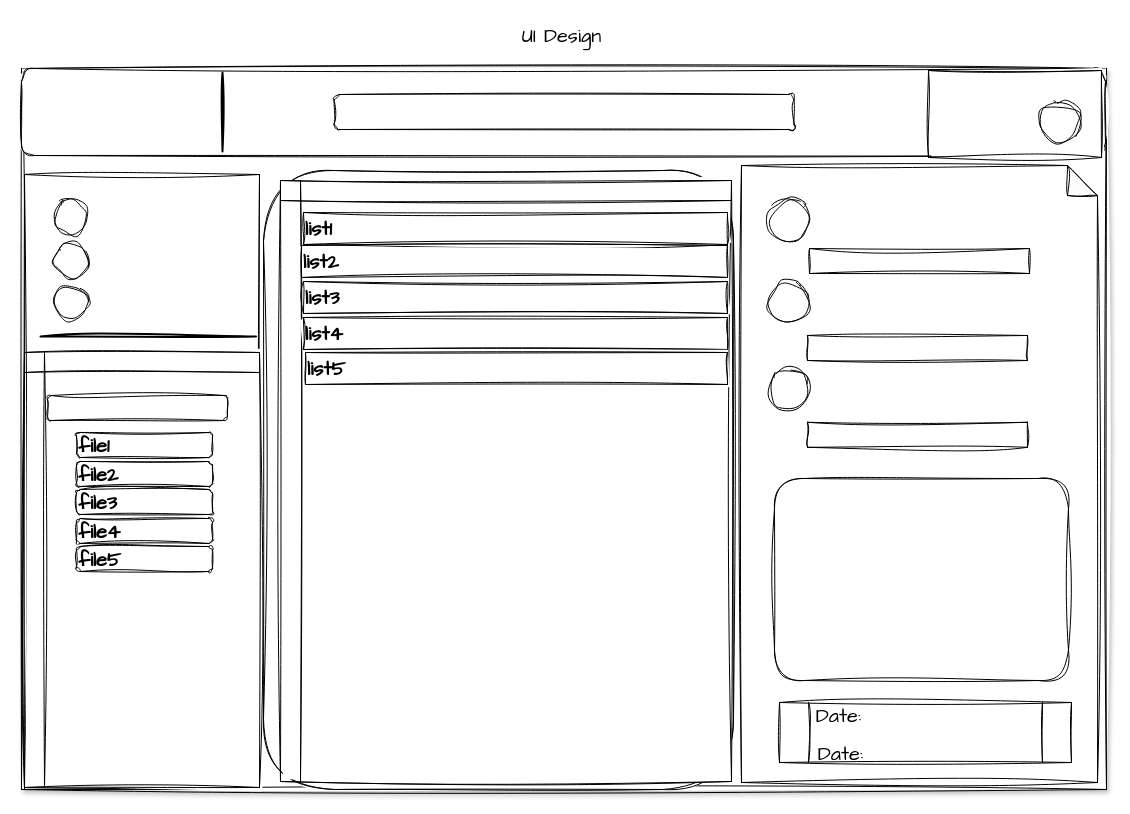
The diagram is 1130 pixels wide and 814 high, and some of its shapes have lost their labels. The centre of each missing label's shape, as x and y in pixels:
folder: [137,407]
Hi, Welcome to BUrgress PM: [563,112]
Mark:: [921,579]
